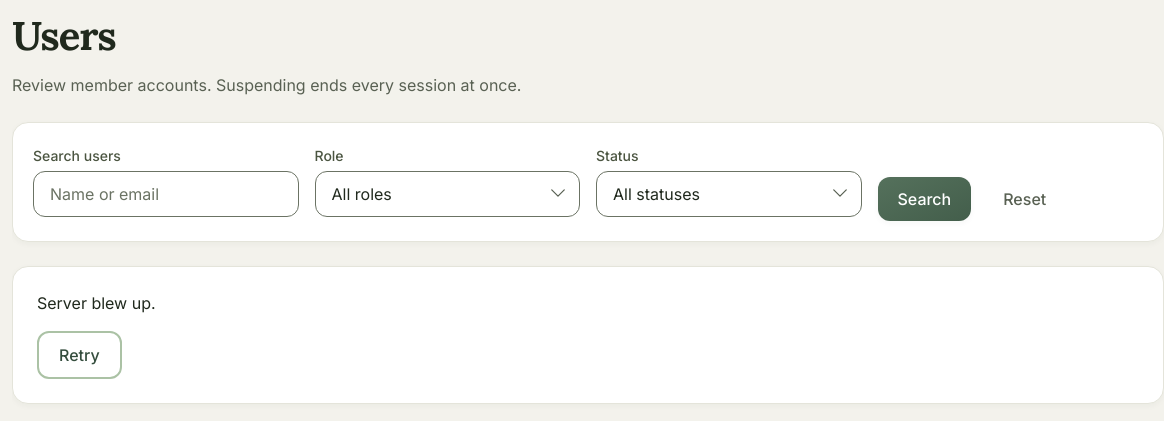
Test: AdminUsersPage.vue › shows an error with retry and recovers to data
Check: the message "Server blew up. Retry" is shown, box x1=12 y1=266 x2=1163 y2=404
Click the button "Retry".
click(79, 355)  # box x1=37 y1=331 x2=122 y2=379
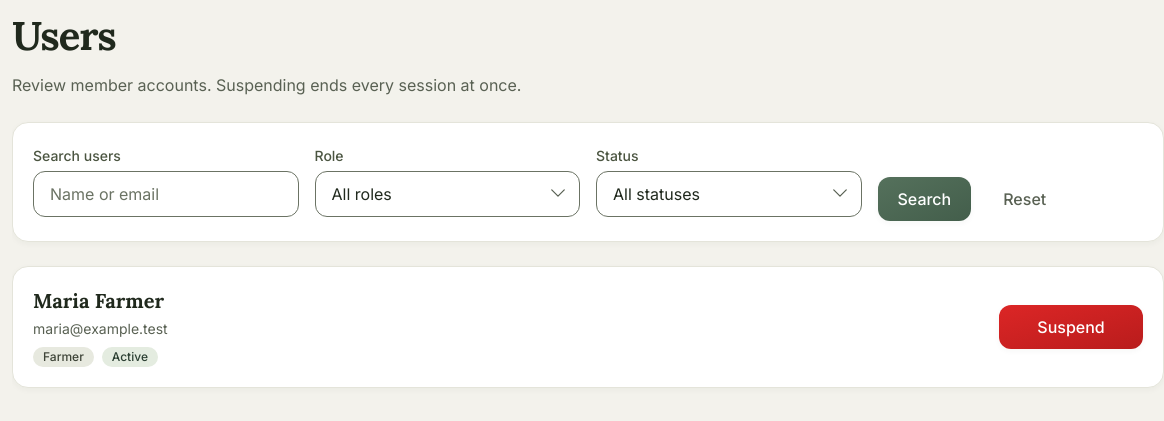
Check: the text "Maria Farmer" is shown, box x1=33 y1=287 x2=168 y2=315
